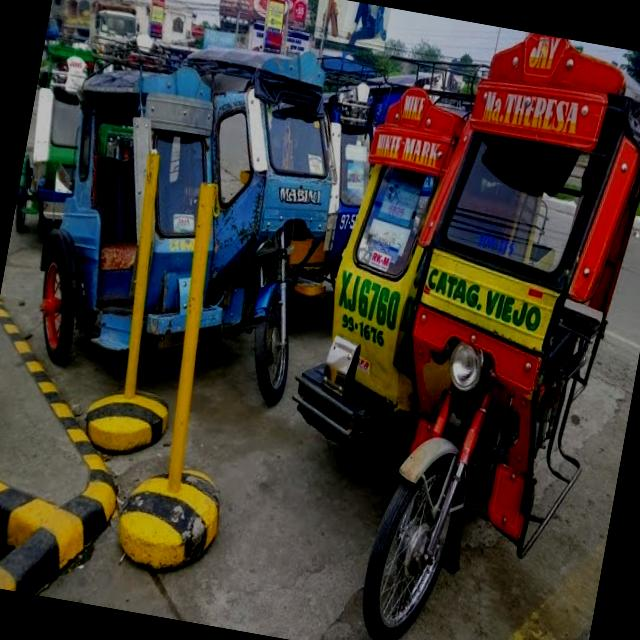Vehicle: (276, 6, 640, 640), (31, 23, 355, 400), (86, 5, 140, 70)
